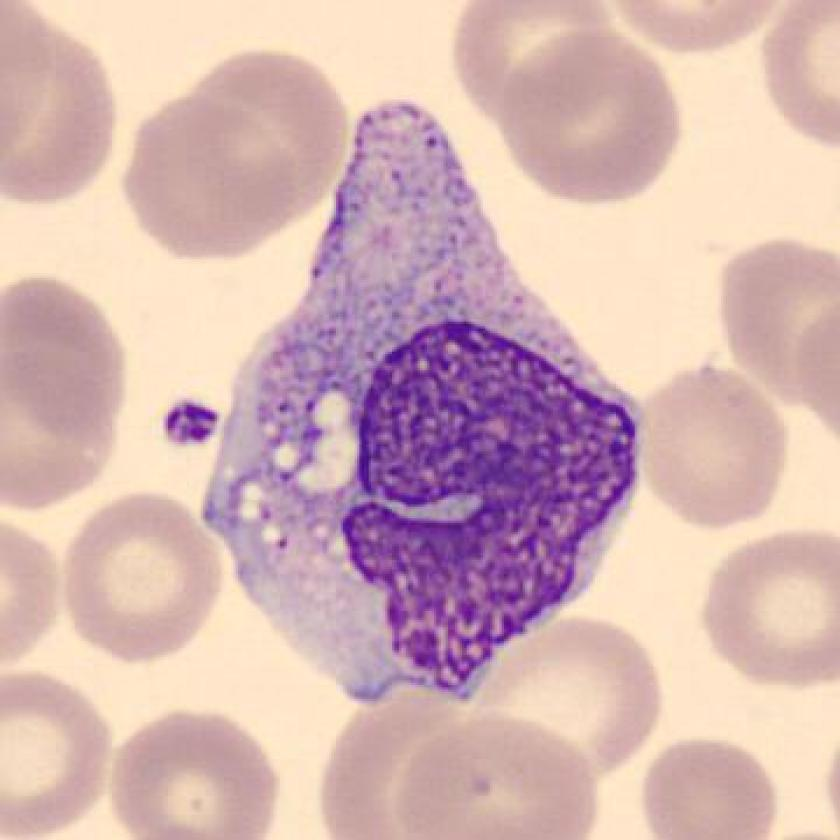monocyte: (178, 78, 666, 728)
